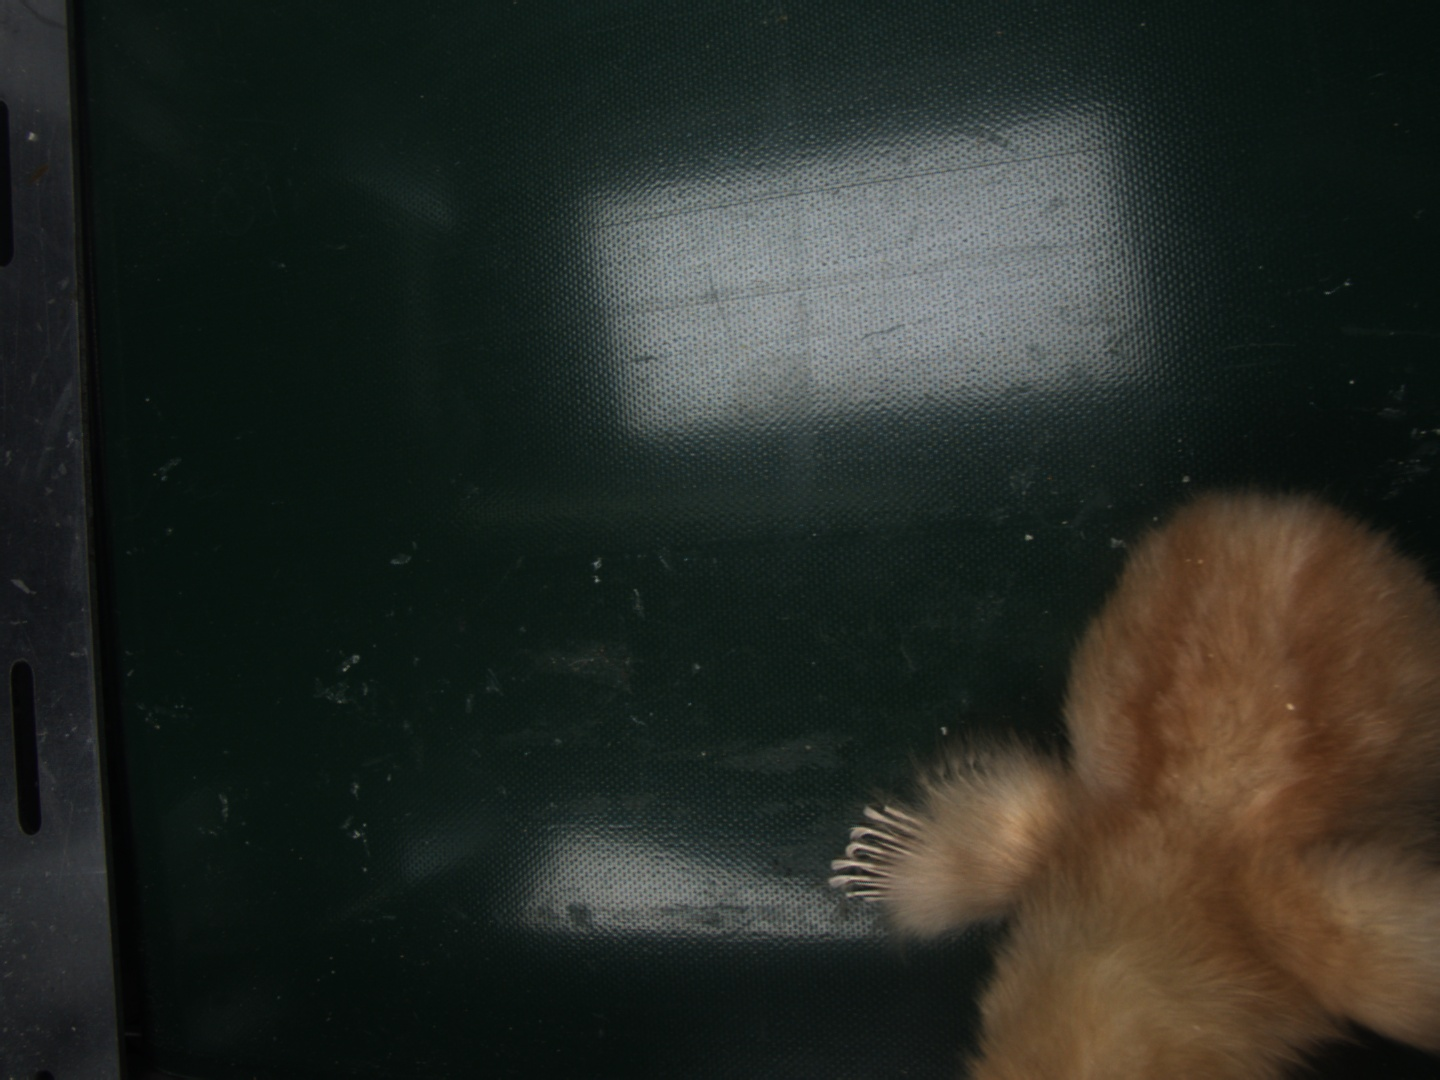female: (830, 803, 925, 905)
